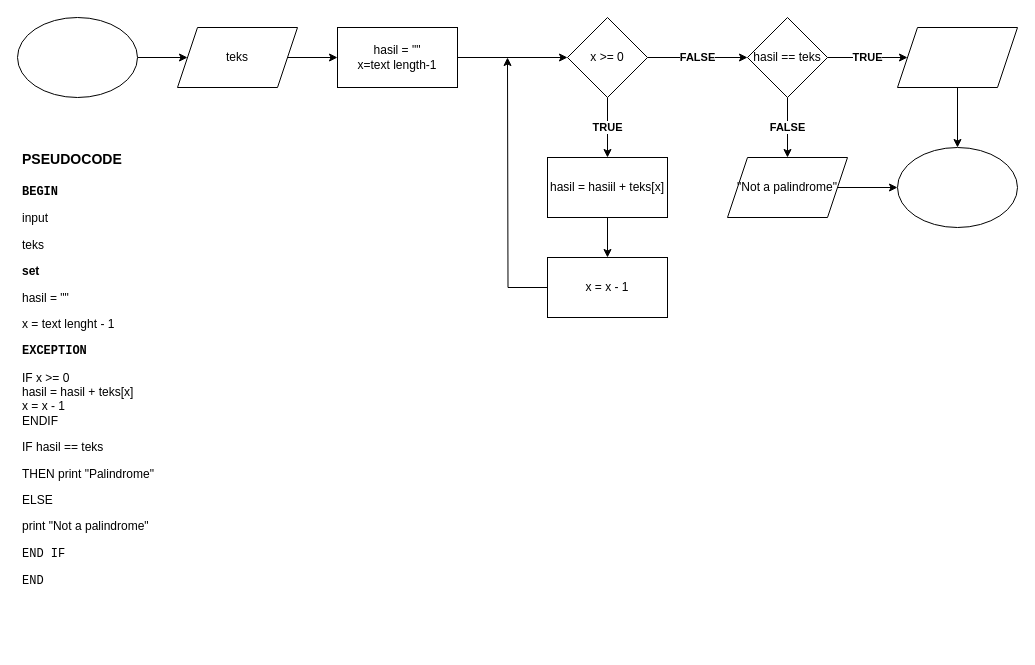
This 1035x665 diagram has some shape labels left out. Each missing label, with the box of its shape:
"Palindrome": (896, 26, 1018, 88)
END: (896, 146, 1018, 228)
START: (16, 16, 138, 98)
